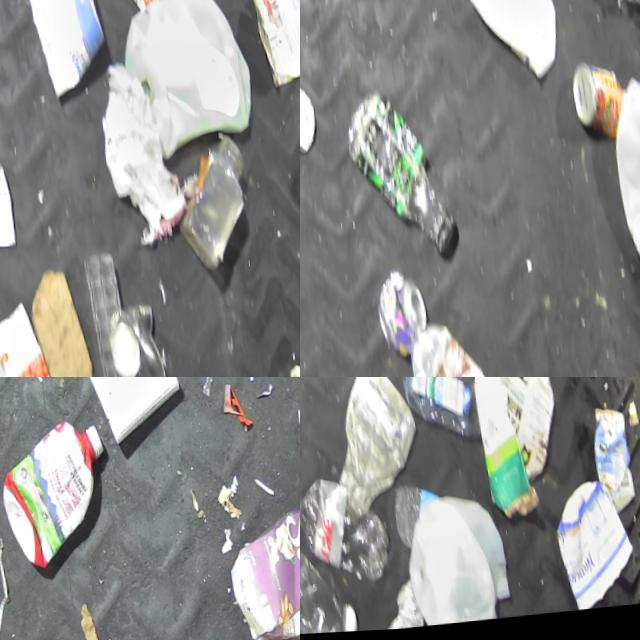can: (362, 274, 426, 362), (564, 62, 626, 150), (246, 0, 300, 97), (96, 304, 157, 377), (0, 300, 49, 377), (119, 0, 183, 19)
milk_jug: (111, 0, 259, 167), (387, 494, 493, 631), (438, 0, 563, 94), (597, 73, 640, 323), (388, 377, 479, 453)
non_white_jug: (0, 419, 112, 572), (216, 500, 300, 640)
plastic_bottle: (334, 87, 458, 270), (300, 469, 387, 596), (300, 513, 346, 639), (378, 482, 428, 553), (562, 0, 640, 37)
